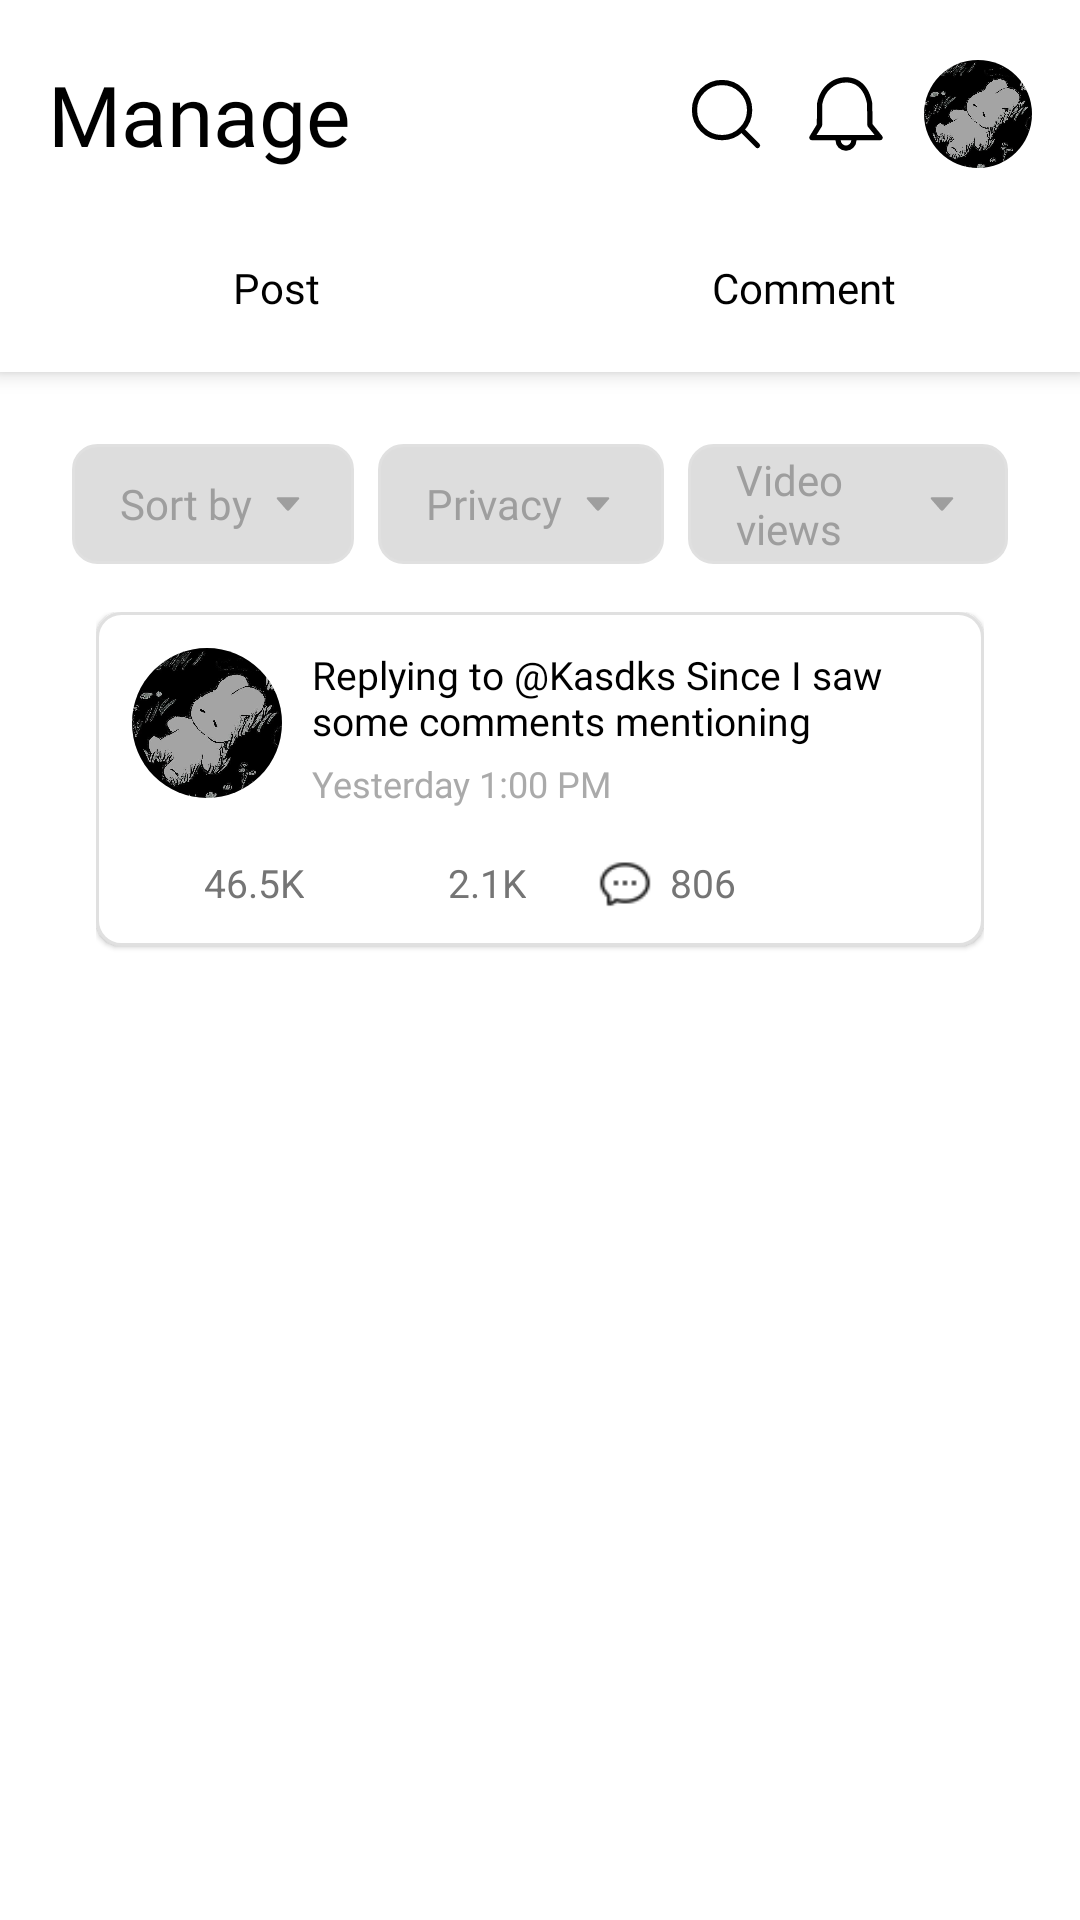

Icon click points for this 1080×1920 phone screenshot, format (x,y):
Notifications: (846,114)
Search: (726,114)
